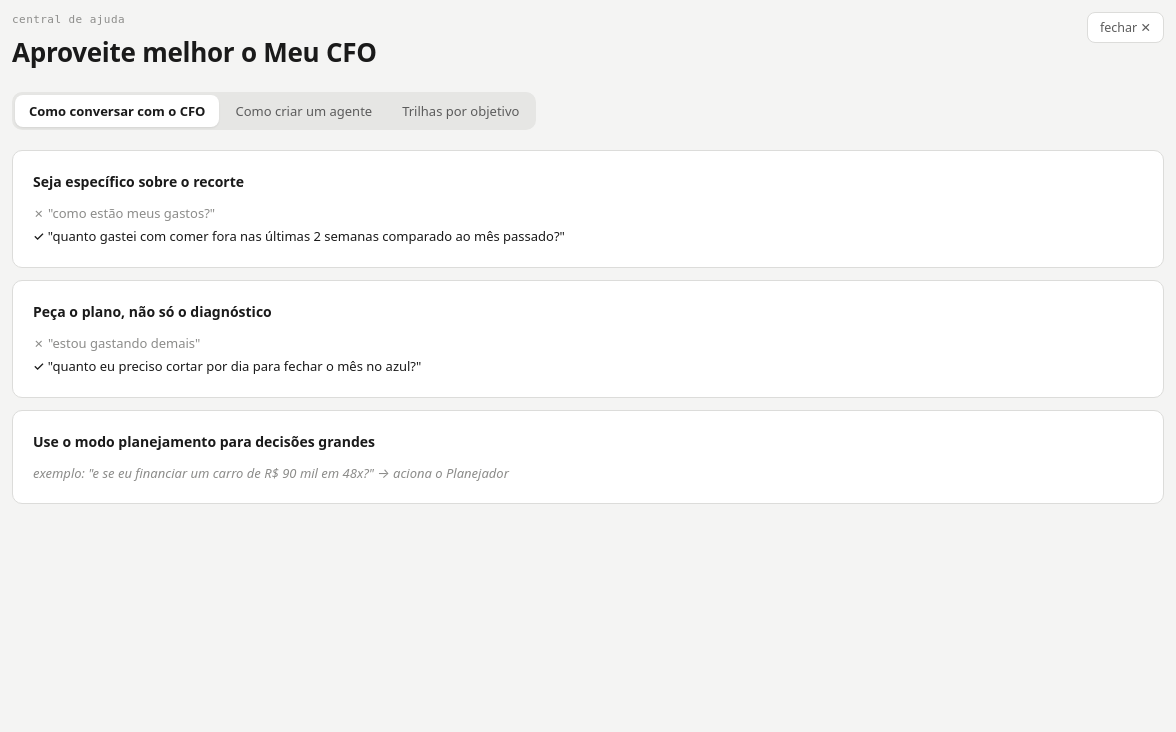
Test case: TelaAjuda › troca para "Trilhas por objetivo" e lista as 4 trilhas
What coordinates should you click on to do the following:
click the tab "Trilhas por objetivo"
I would click on:
 (461, 110)
Its box is [388, 94, 534, 126].
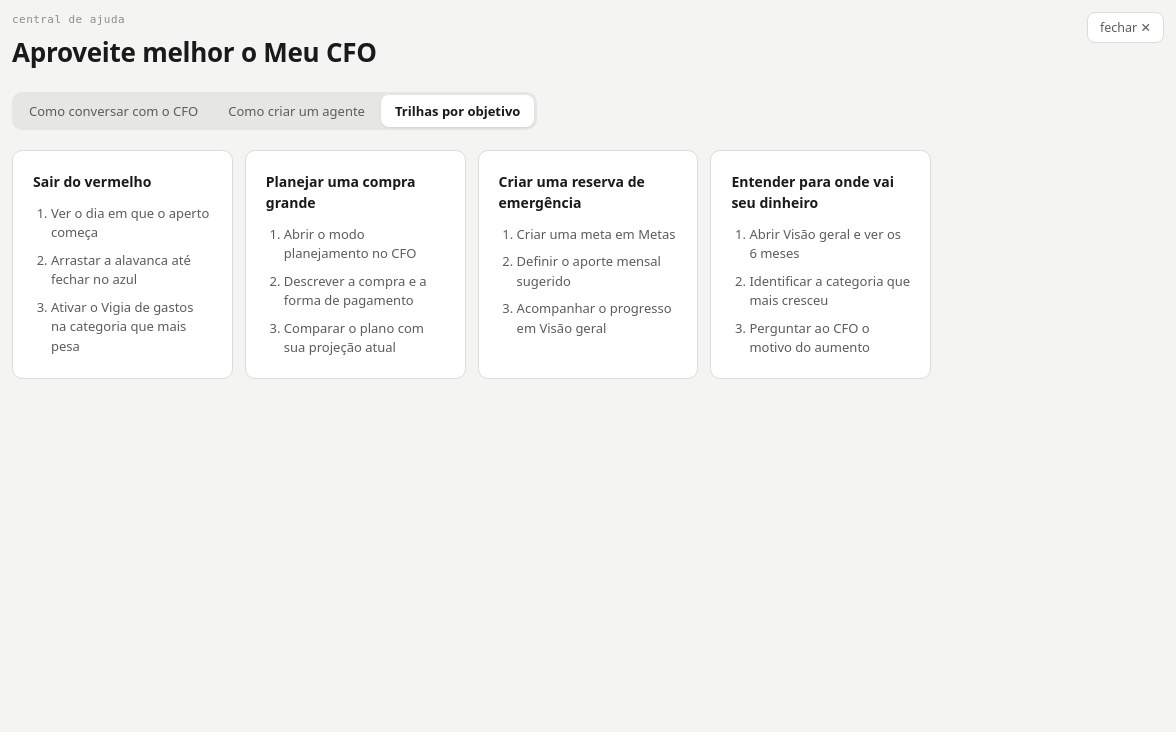
Now the heading "Sair do vermelho" is shown, box [33, 172, 151, 190]
Now the heading "Planejar uma compra grande" is shown, box [266, 172, 416, 212]
Now the heading "Criar uma reserva de emergência" is shown, box [499, 172, 645, 212]
